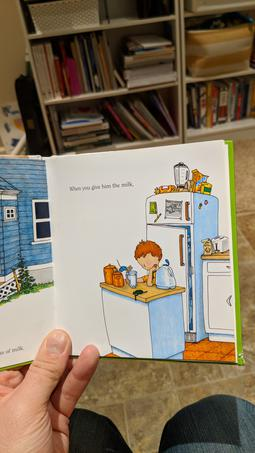text block: (59, 175, 138, 197)
